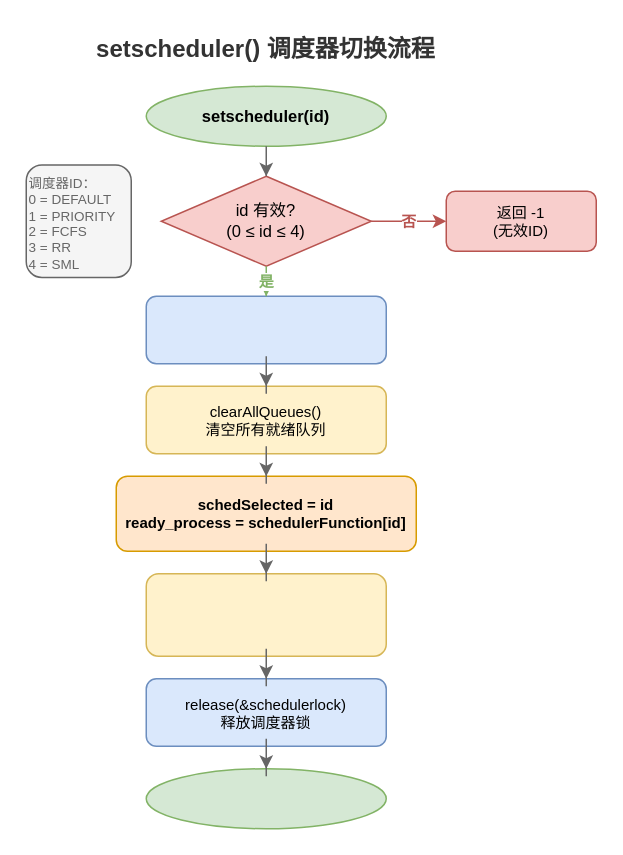
Image size: 623x855. Some labels were removed from this diagram. The centre of each missing label's shape, as x and y in pixels:
"acquire(&schedulerlock) 获取调度器锁" belongs at point (265, 329).
"返回 0 (成功)" belongs at point (265, 798).
"遍历进程表 将所有RUNNABLE进程 加入新队列" belongs at point (265, 614).
